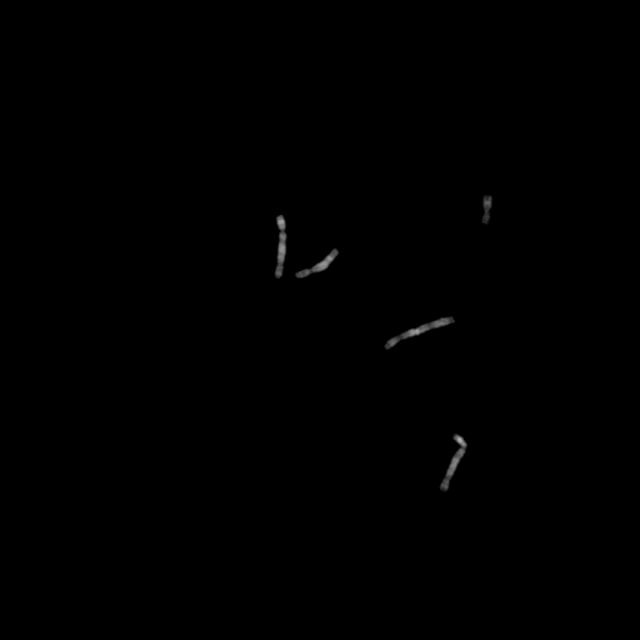chromosome: (384, 316, 456, 349), (439, 435, 467, 491), (295, 248, 339, 278), (276, 215, 286, 278), (481, 196, 492, 224)
